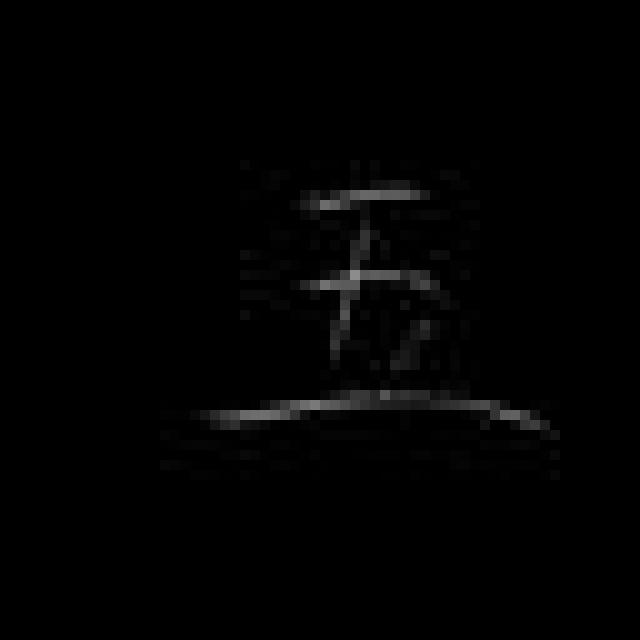5 -five-: (202, 172, 560, 460)
